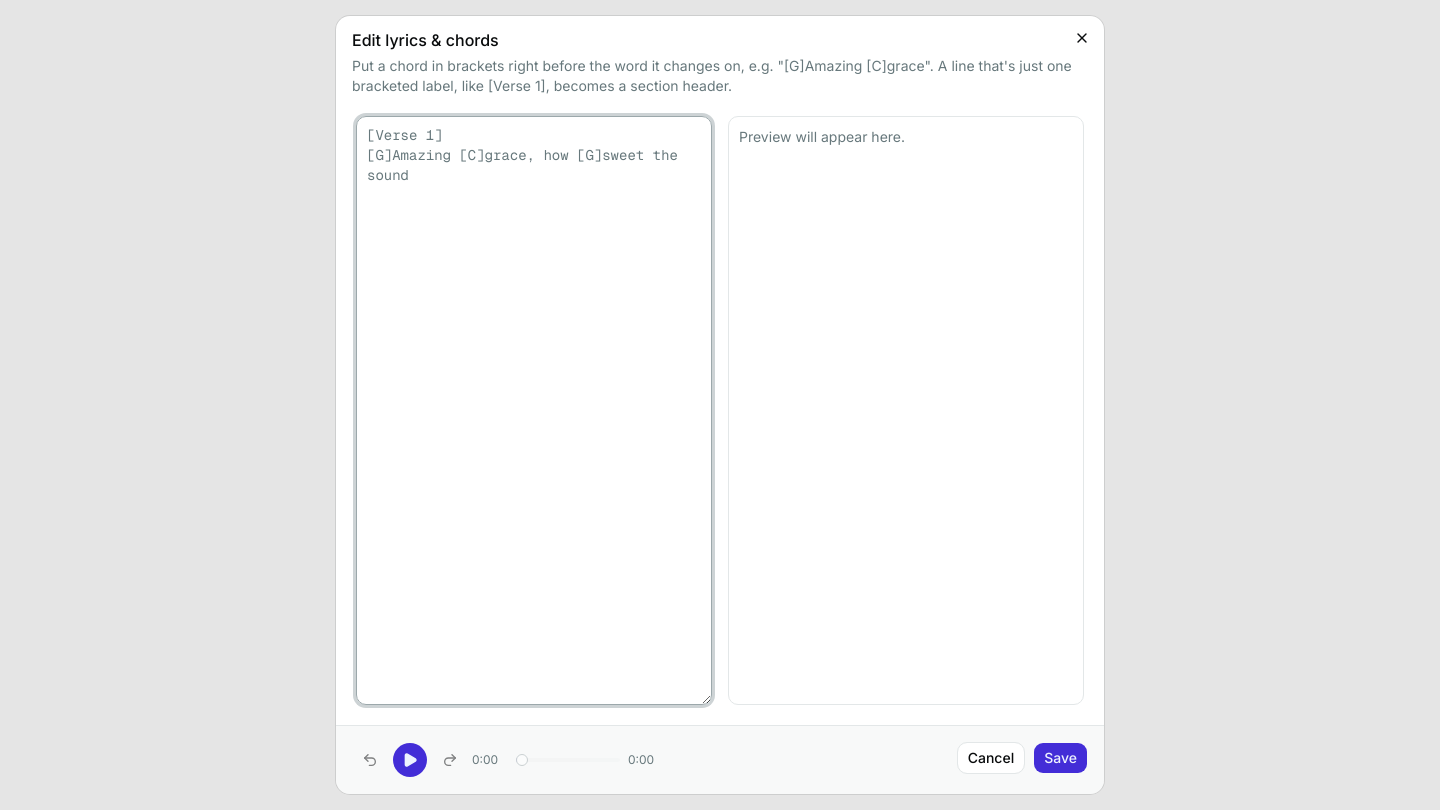
Test: EditChordProDialog › updates the live preview as the textarea content changes
The width and height of the screenshot is (1440, 810).
Check: the text "Preview will appear here." is shown, box [739, 128, 905, 145]
Type "[ [D]Grace" into the text box at (534, 410), box [356, 116, 712, 705]
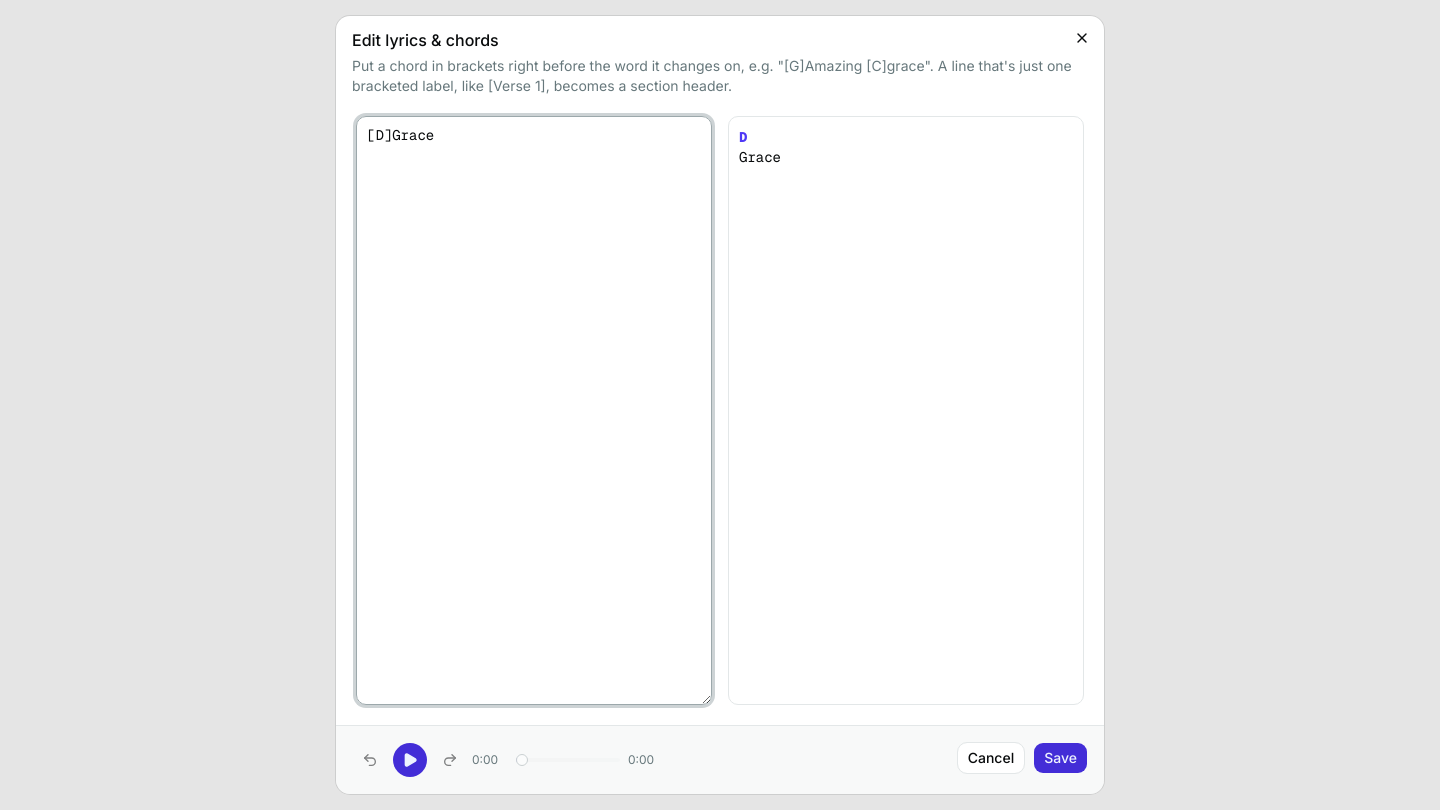
Check: the text "Preview will appear here." is gone
Check: the text "D" is shown, box [739, 127, 747, 147]
Check: the text "Grace" is shown, box [739, 147, 781, 167]
